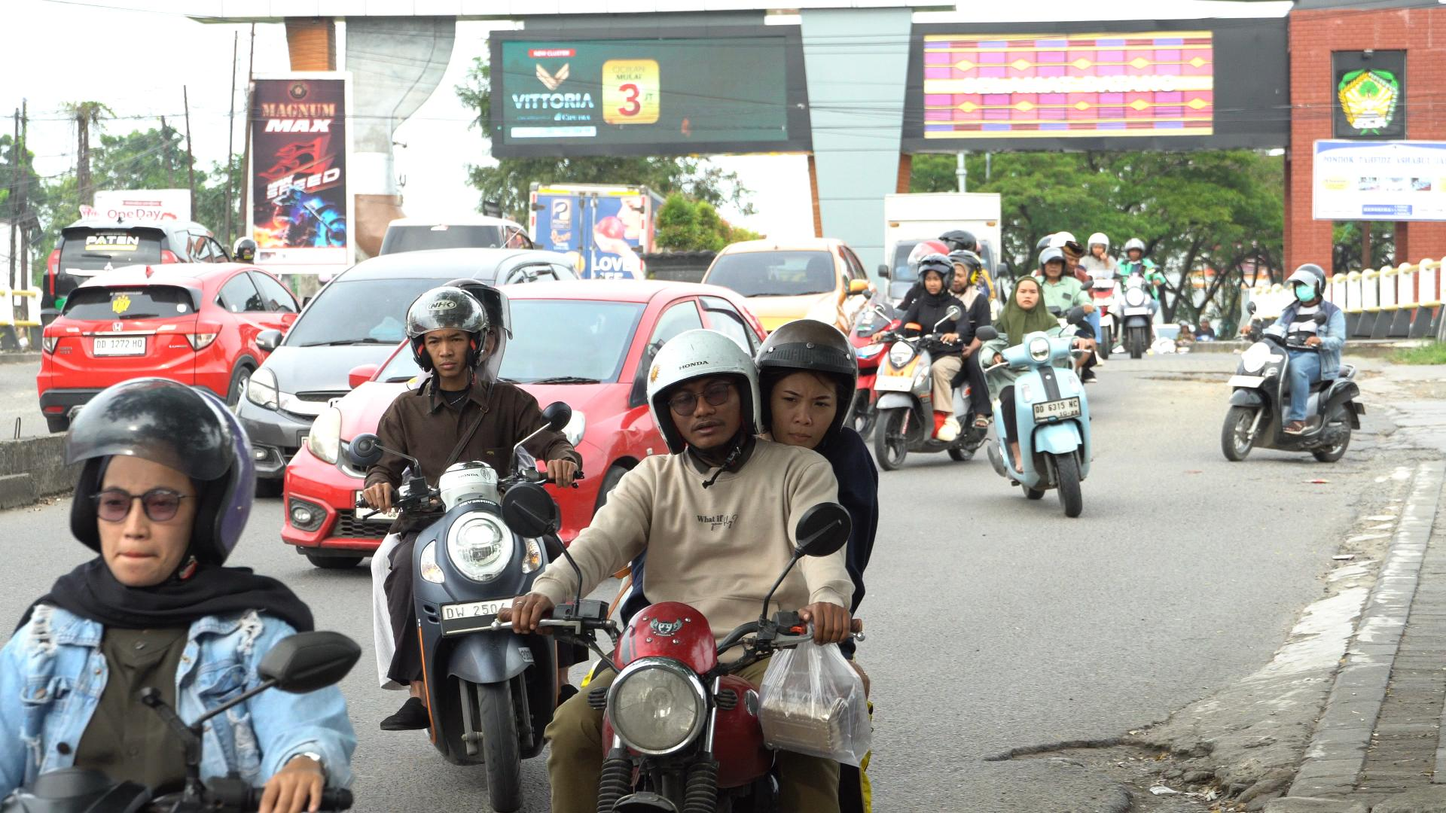number-plate: (1032, 396, 1085, 424)
